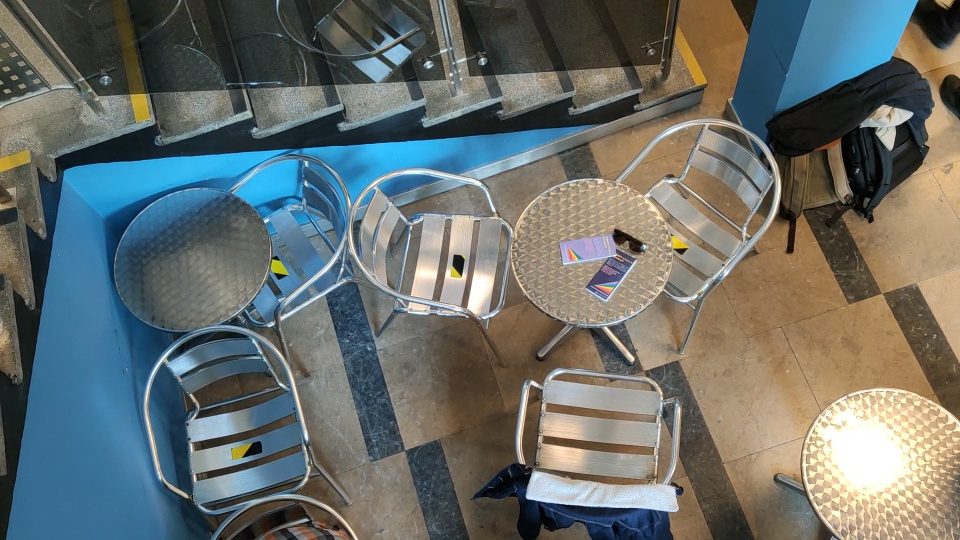chair: (599, 110, 780, 354), (136, 330, 353, 502), (215, 151, 389, 347), (351, 163, 507, 358), (504, 365, 683, 526)
table: (509, 170, 676, 365), (775, 388, 956, 540), (112, 188, 272, 326)
